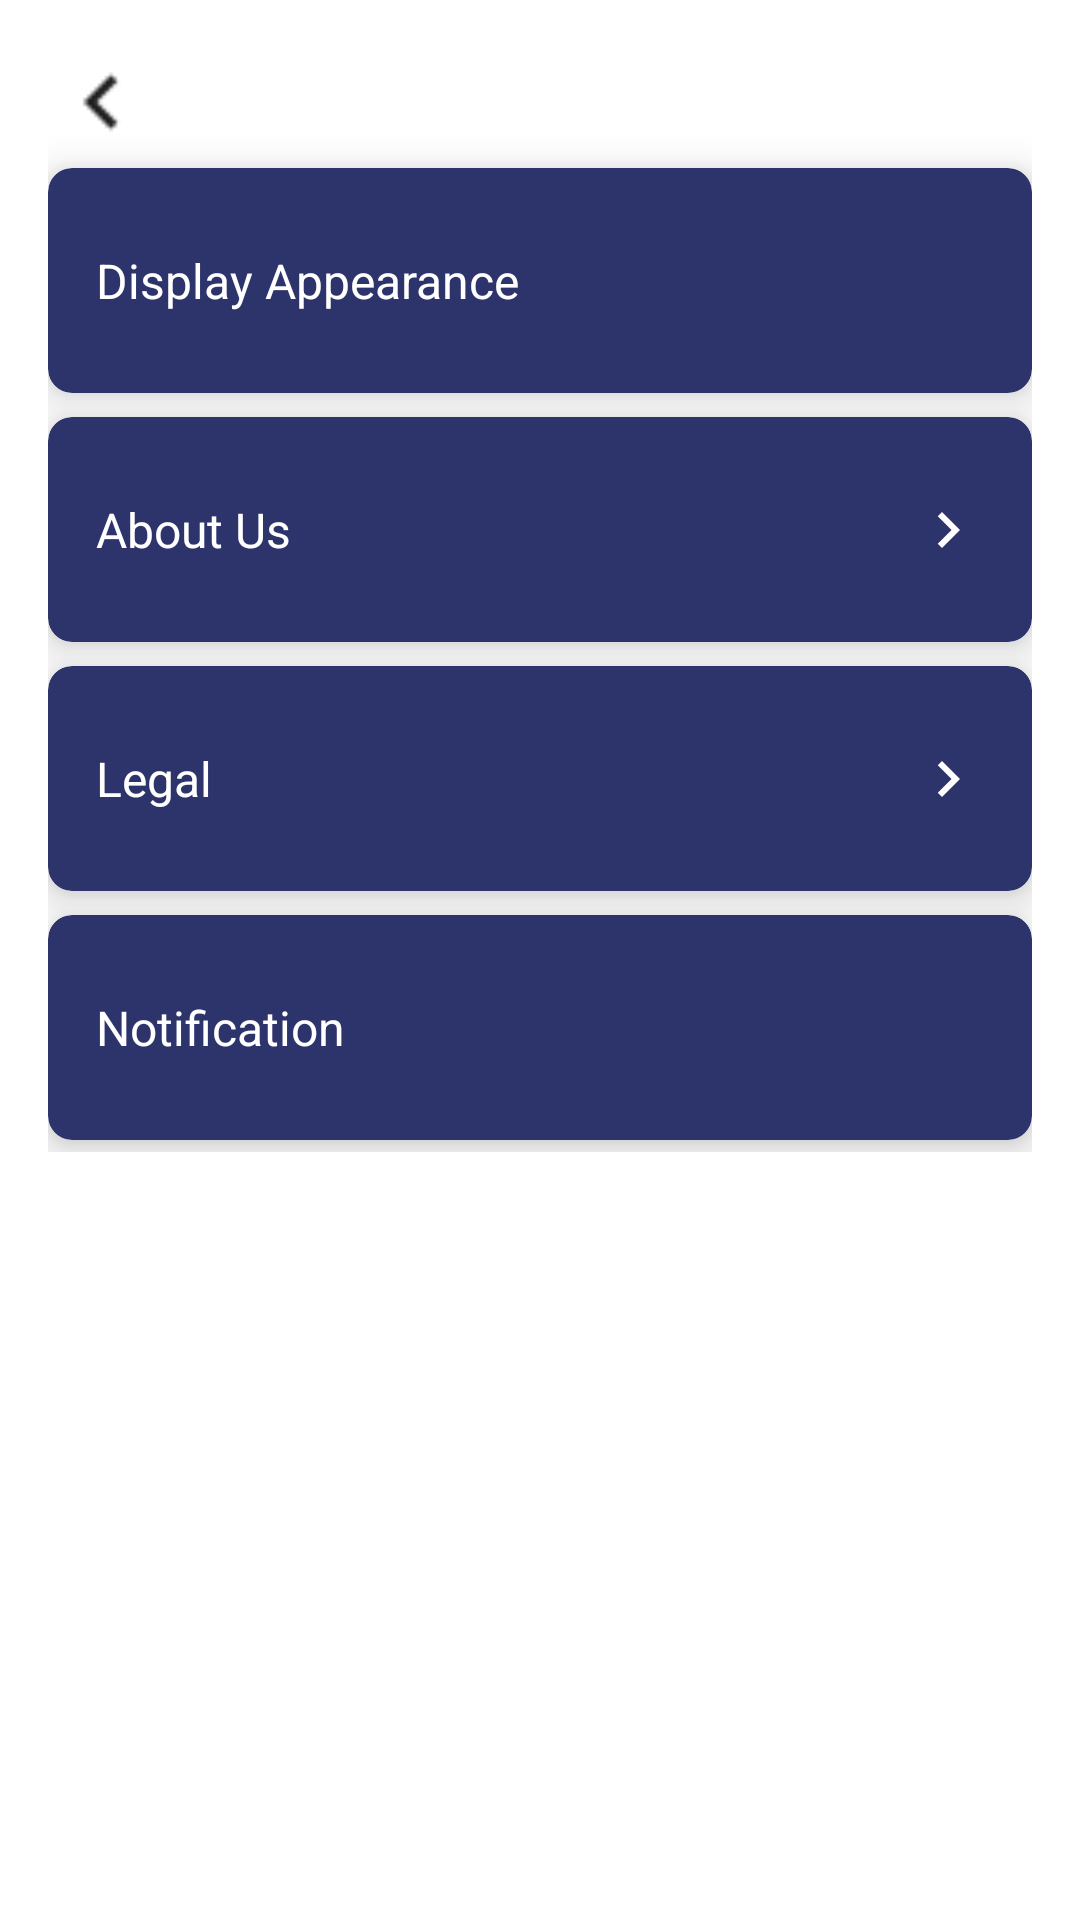

Named icons in this screenshot (1080×1920) and their bounding boxes, {"left": x1, "top": y1, "right": x2, "bottom": y2}:
arrow: {"left": 938, "top": 512, "right": 960, "bottom": 548}, {"left": 938, "top": 761, "right": 960, "bottom": 797}
Back: {"left": 83, "top": 73, "right": 118, "bottom": 131}
